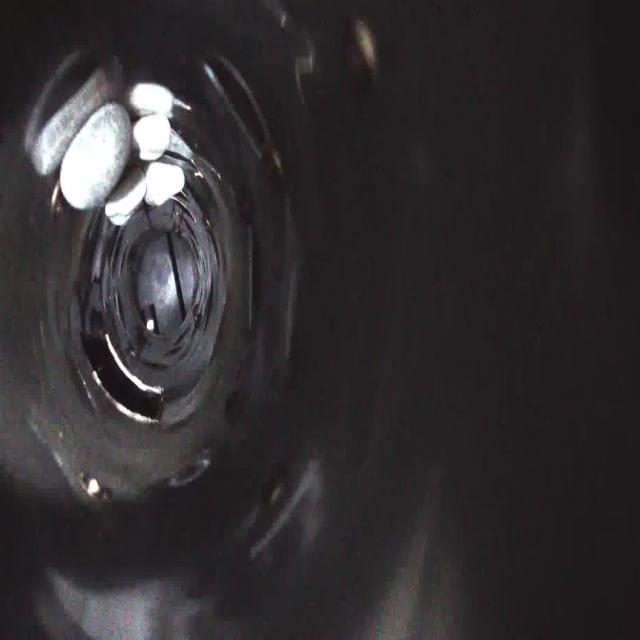crack: (92, 213, 128, 276), (201, 210, 230, 276), (163, 180, 197, 234), (200, 278, 224, 342), (159, 324, 193, 368), (92, 294, 124, 334), (132, 349, 170, 381), (140, 185, 161, 225)
hole: (78, 328, 164, 428)
